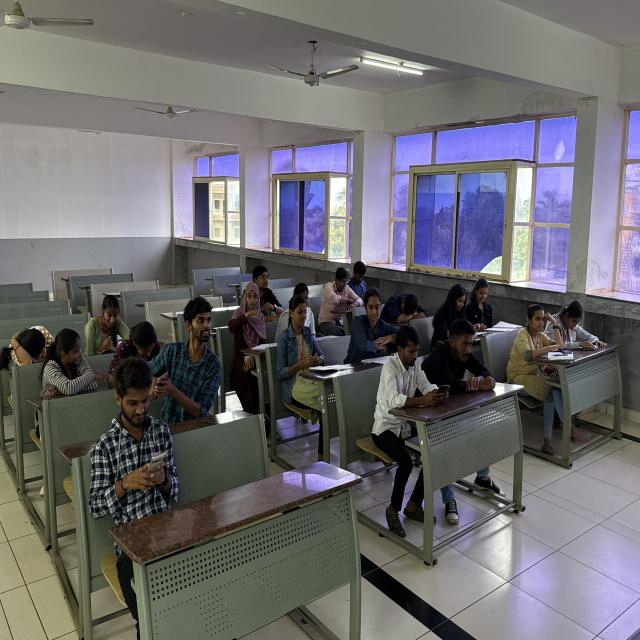Sleeping: (5, 291, 60, 377), (380, 280, 433, 330)
Using Phone: (370, 310, 452, 540), (106, 361, 182, 541)
